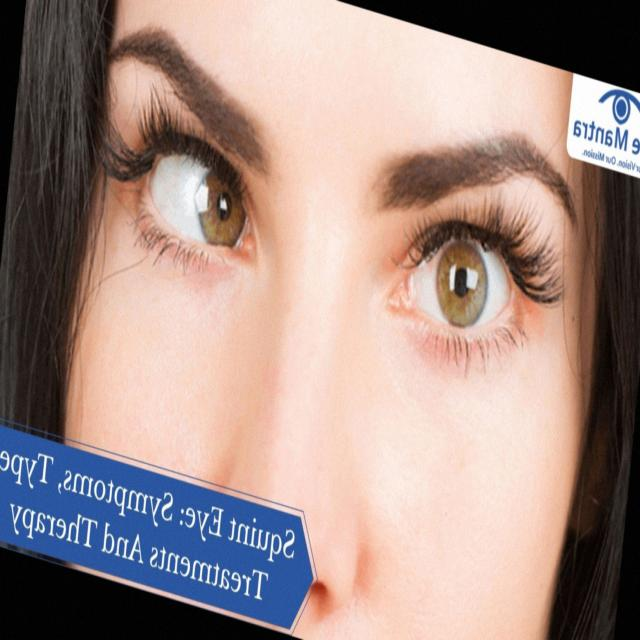Healthy-Eye: (383, 191, 529, 365)
Squint: (132, 120, 264, 286)
